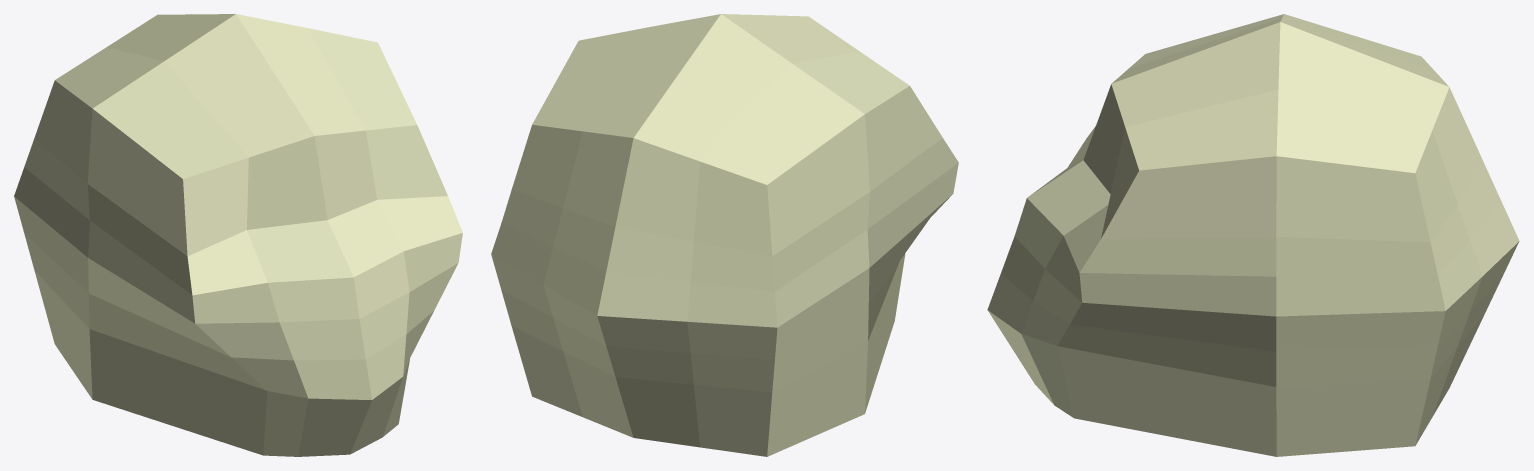
The model's file is skull.fbx.
3 renders of one model, left to right at view 1: azimuth 30°, elevation 25°; view 2: azimuth 150°, elevation 25°; view 3: azimuth 270°, elevation 25°, orthographic. The views are drawn at different scales.
Parts seen in each view (by area): view 1: skull deco; view 2: skull deco; view 3: skull deco.
Boxes of the visible parts, x1,y1,x2,y2 form: skull deco: (14, 14, 462, 456); skull deco: (491, 14, 958, 456); skull deco: (987, 14, 1519, 456).
Bounding box in the file's own units: 21.25 × 31.51 × 23.82.
